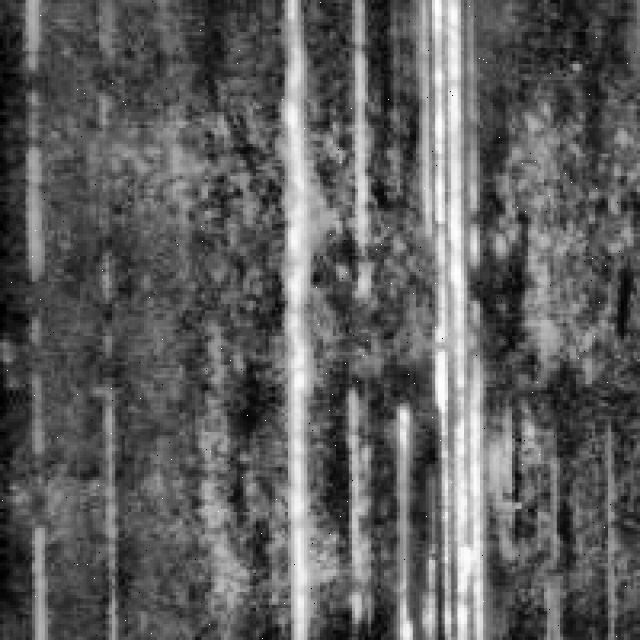Inclusion: (390, 0, 496, 634), (276, 0, 326, 634)
